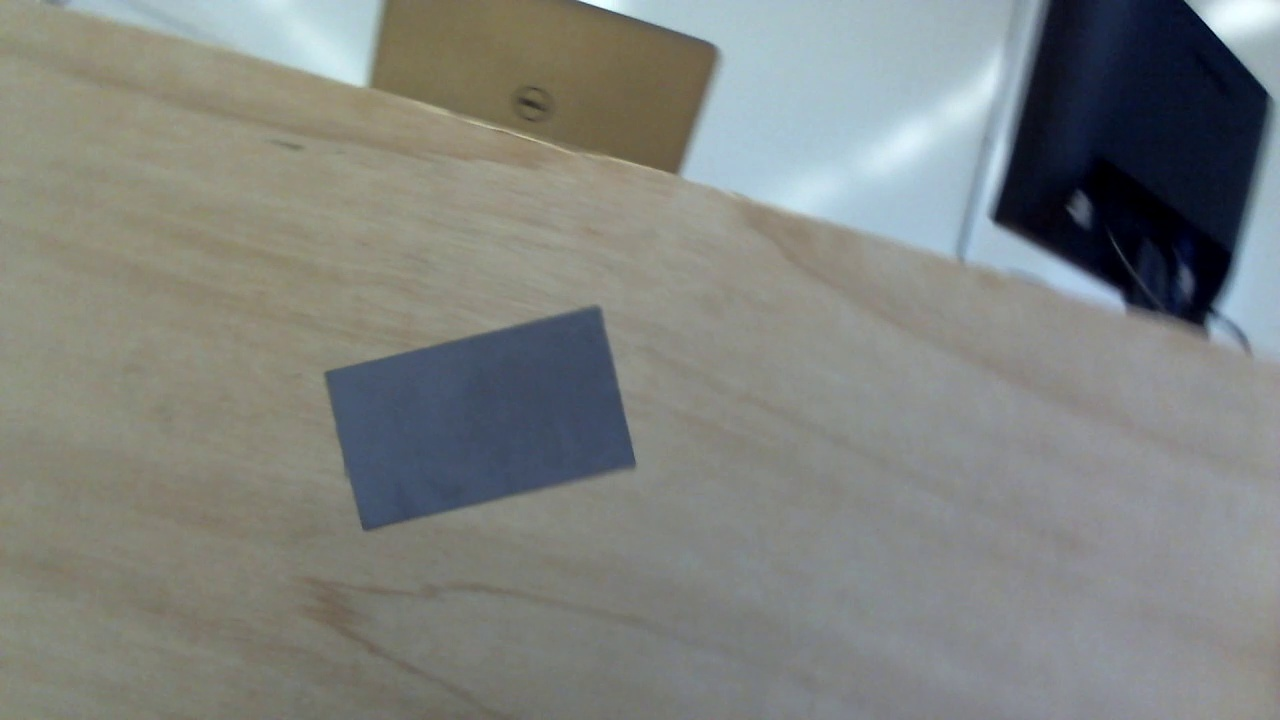Tape: (321, 299, 639, 531)
